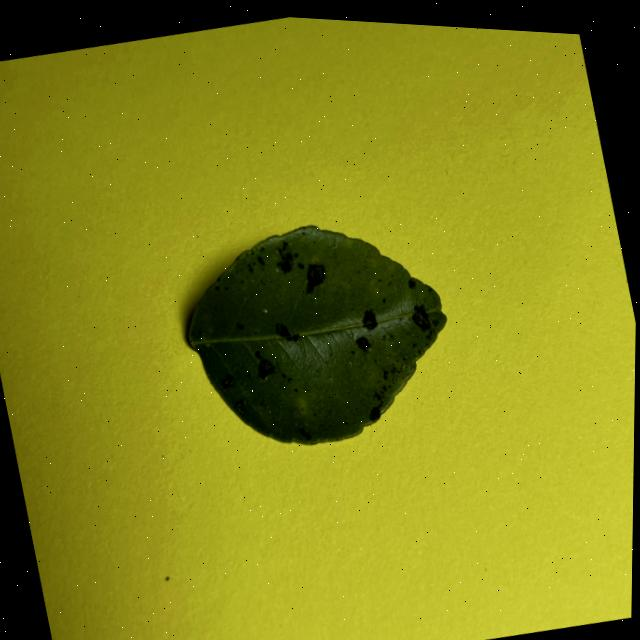sooty_mold: (188, 226, 445, 444)
